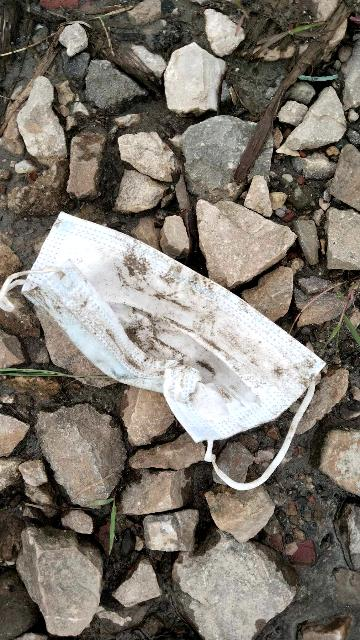mask: (0, 204, 352, 496)
